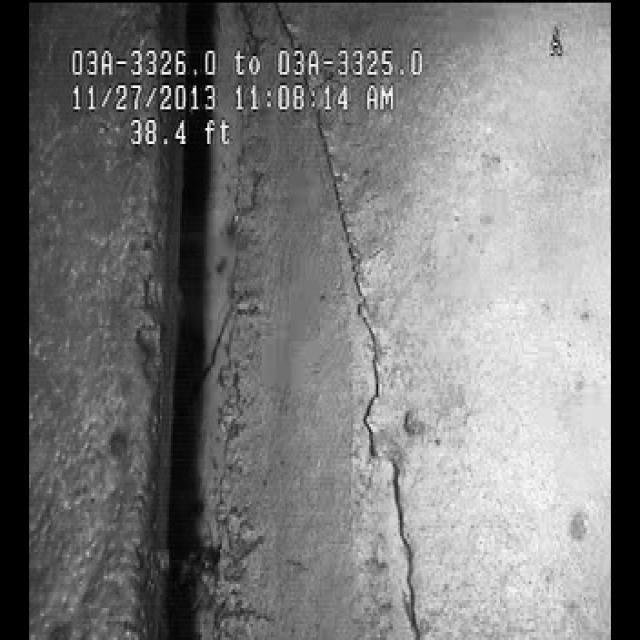Crack: (300, 135, 438, 576)
